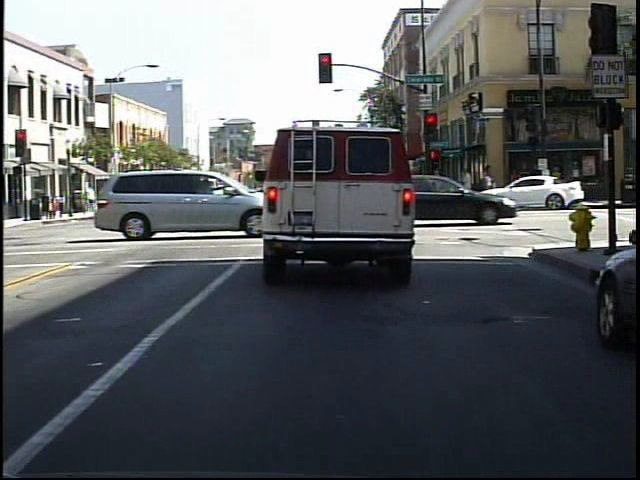person: (524, 158, 546, 208), (506, 161, 526, 205)
